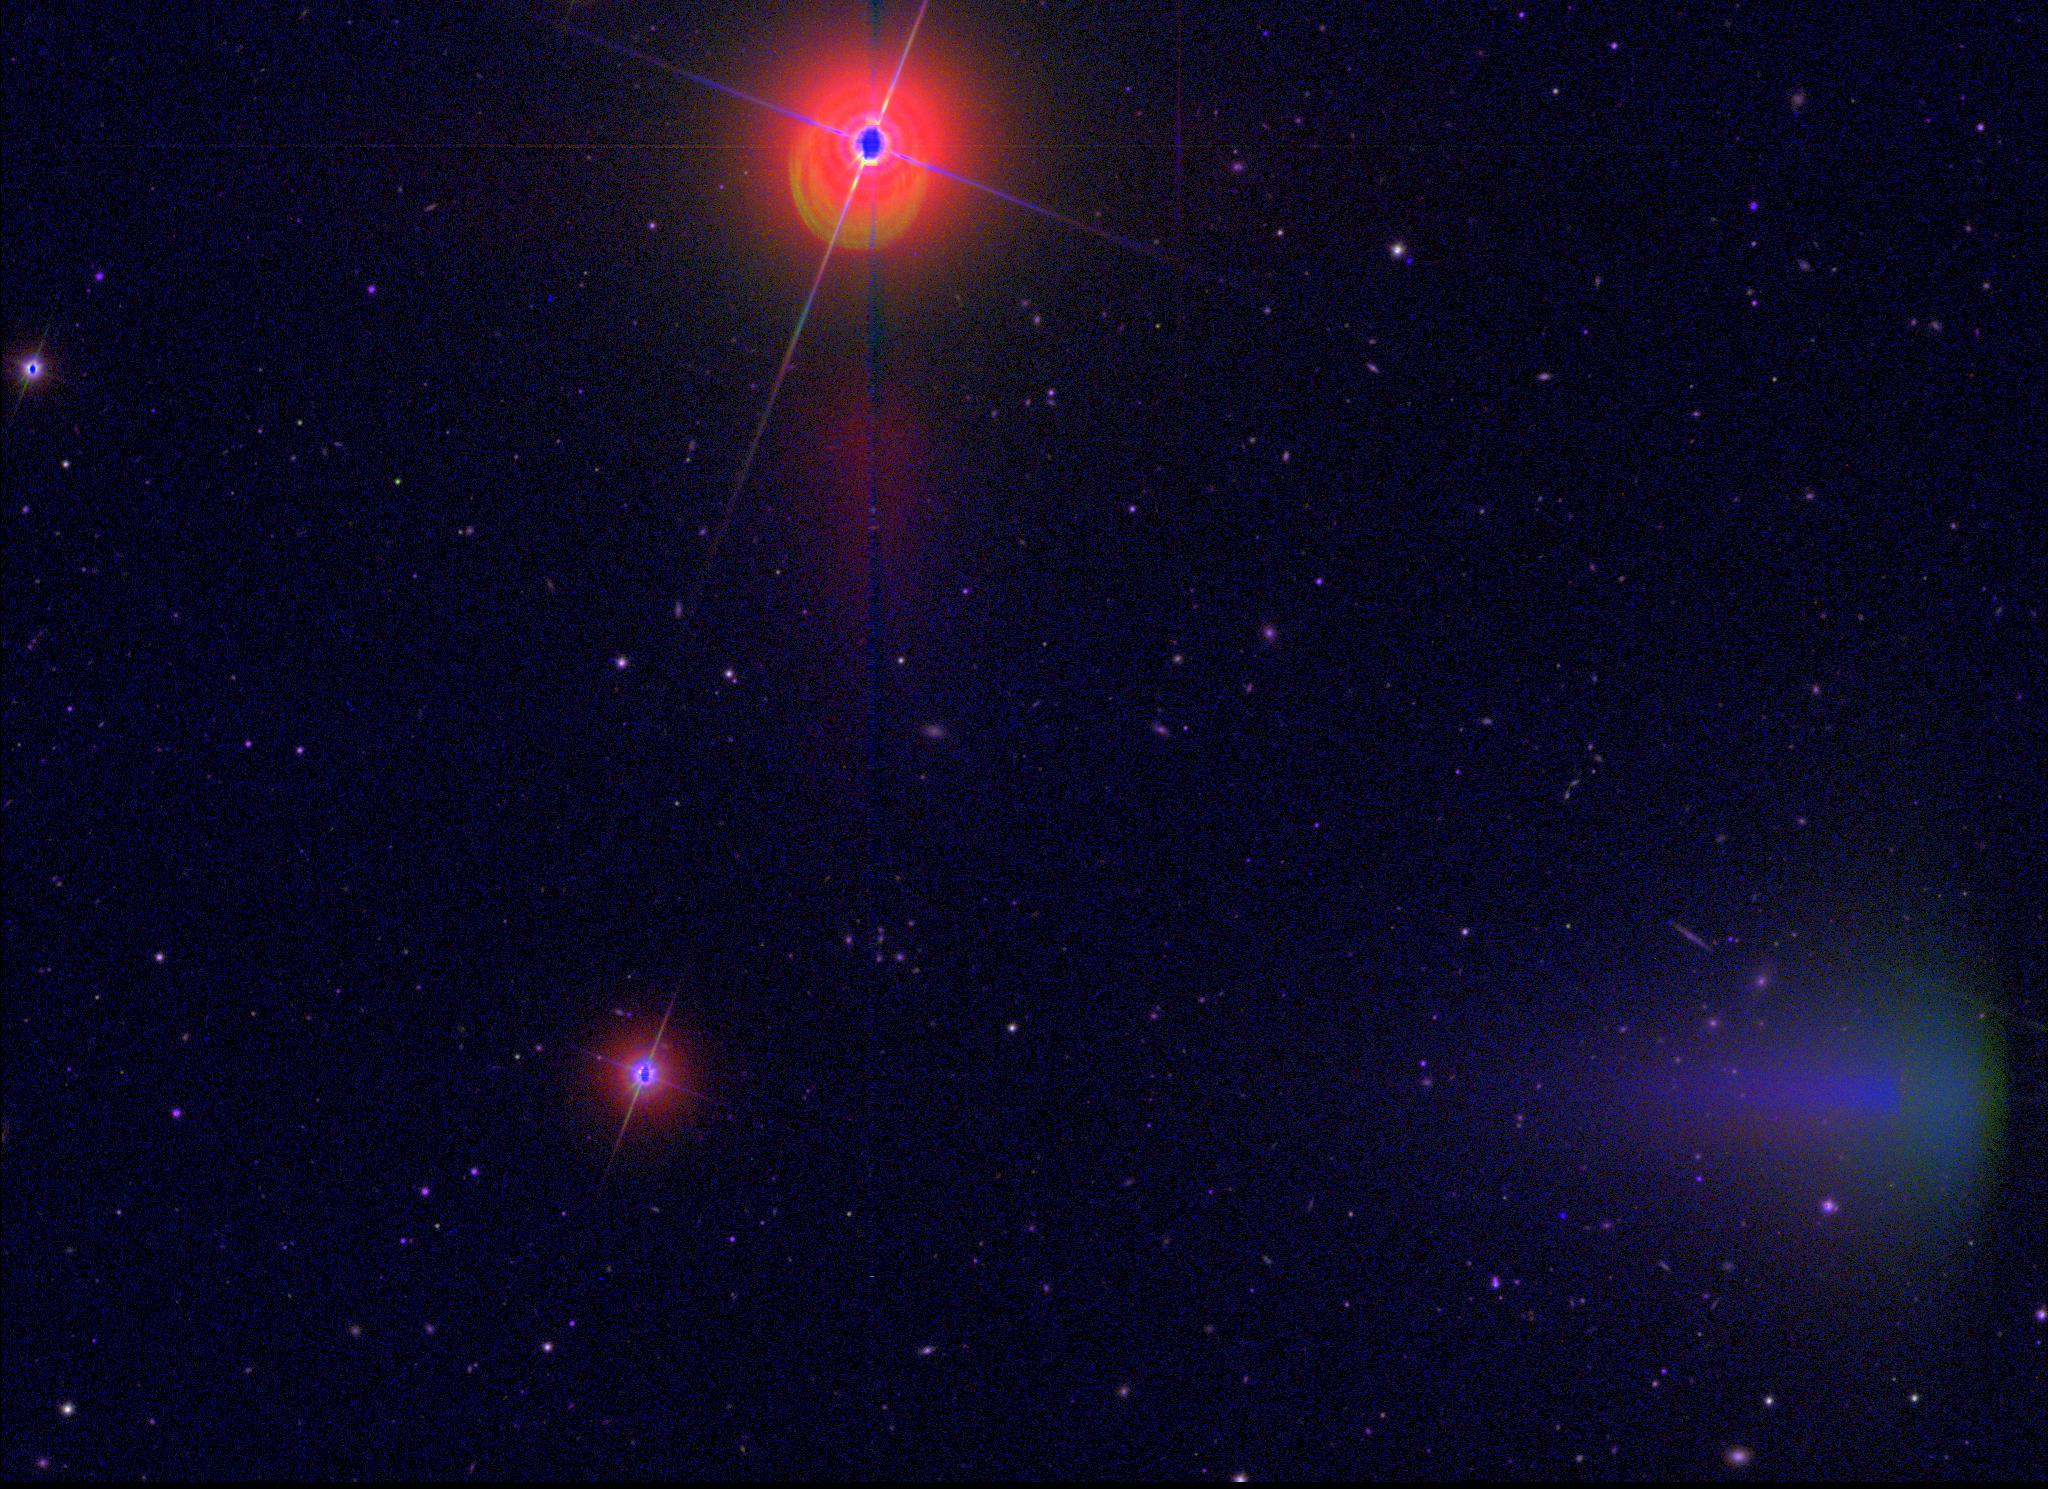L: (1401, 251, 1415, 266)
